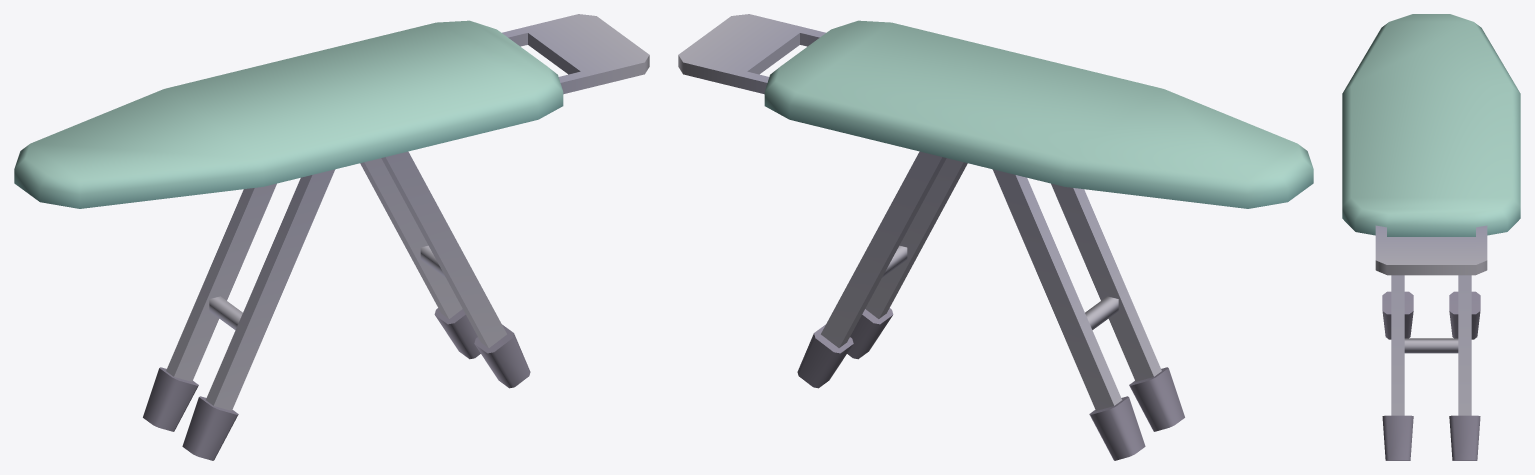
File: ironing-board.glb
3 views of the same model, side by side, from view 1: azimuth 30°, elevation 25°; view 2: azimuth 150°, elevation 25°; view 3: azimuth 270°, elevation 25° (orthographic). The views are drawn at different scales.
Visible parts, largest first — view 1: ironing-board; view 2: ironing-board; view 3: ironing-board.
Boxes of the visible parts, x1,y1,x2,y2 form: ironing-board: (14, 14, 649, 460); ironing-board: (678, 14, 1313, 460); ironing-board: (1342, 14, 1520, 460).
Size of the model in its own units: 1.3 by 0.6516 by 0.4.
